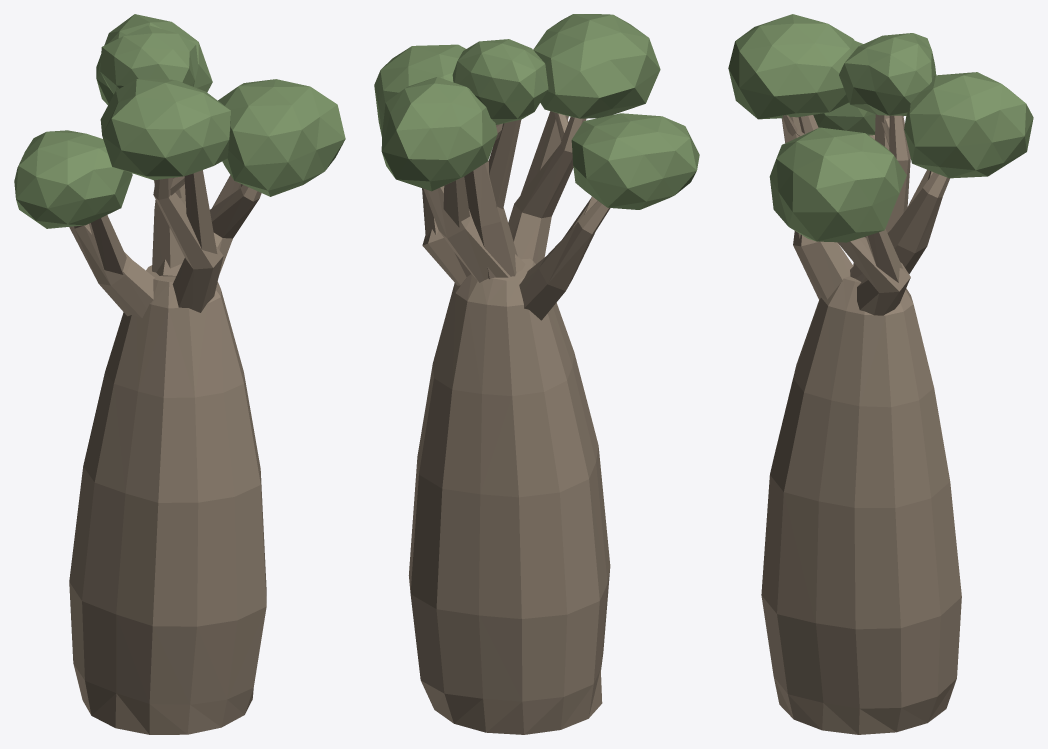
File: baobab.fbx
The picture shows the model from 3 angles, left to right: view 1: azimuth 30°, elevation 25°; view 2: azimuth 150°, elevation 25°; view 3: azimuth 270°, elevation 25°; orthographic projection.
Visible parts, largest first — view 1: baobab; view 2: baobab; view 3: baobab.
Boxes of the visible parts, left/top/right/bottom form: baobab: left=14, top=14, right=345, bottom=734; baobab: left=374, top=14, right=699, bottom=734; baobab: left=728, top=14, right=1033, bottom=734.
Size of the model in its own units: 7.1 by 14 by 5.86.
